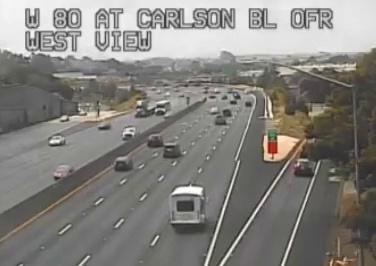bus: (169, 186, 206, 226)
car: (115, 157, 132, 171), (147, 134, 163, 148), (163, 144, 179, 157)
